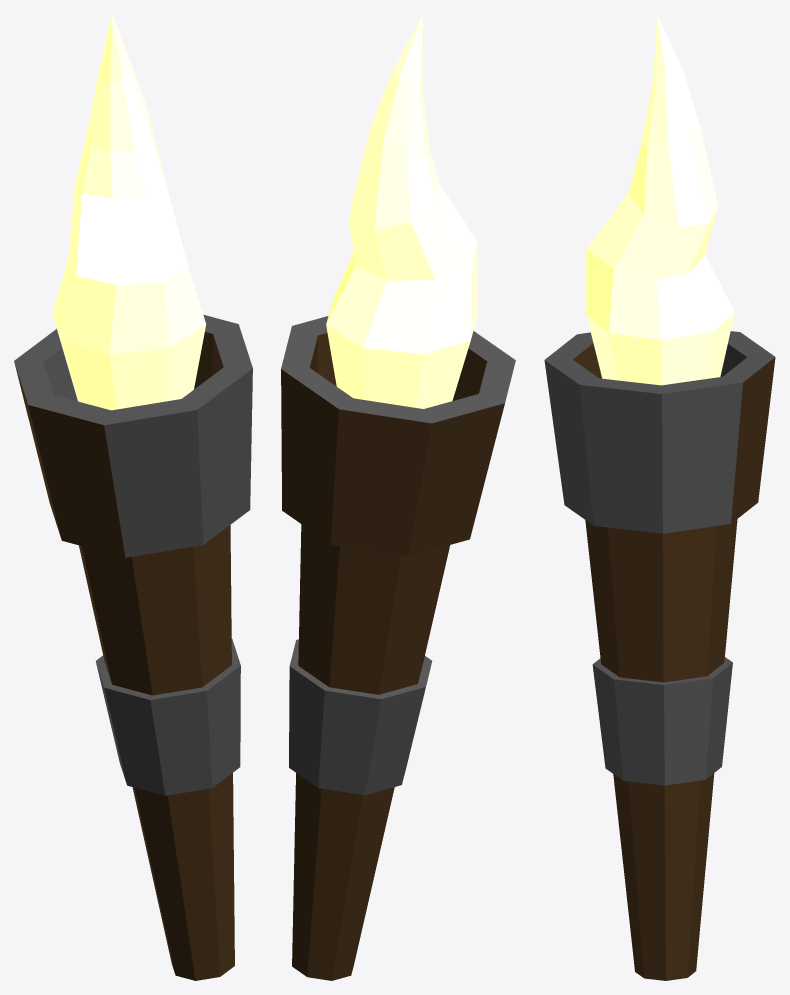
Rendered from dungeon.fbx_Torches.fbx.
3 views of the same model, side by side, from view 1: azimuth 30°, elevation 25°; view 2: azimuth 150°, elevation 25°; view 3: azimuth 270°, elevation 25° (orthographic). The views are drawn at different scales.
Parts seen in each view (by area): view 1: Torch; view 2: Torch; view 3: Torch.
Part boxes in pixels (<box>): Torch: <box>14,14,252,980</box>; Torch: <box>281,14,515,980</box>; Torch: <box>544,15,775,980</box>.
Size of the model in its own units: 35.26 by 155 by 35.5.
